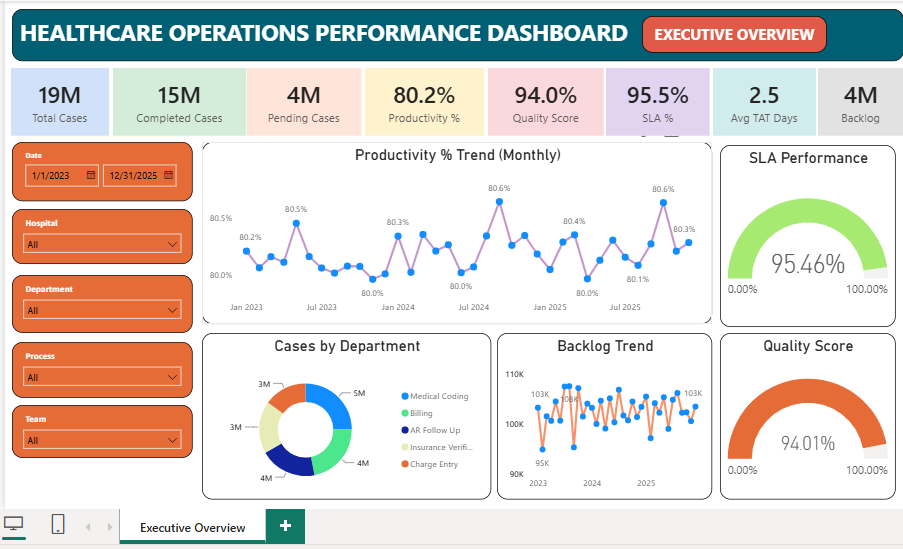

The page's visual inventory and layout, read from the dashboard file:
{"tool":"powerbi","page":{"name":"Executive Overview","canvas":[1280,720],"ordinal":0},"visuals":[{"type":"textbox","box":[9.9,11.3,1264.3,73.7],"z":0},{"type":"textbox","box":[902.8,21.3,262.1,51.8],"z":1000},{"type":"slicer","fields":{"Values":["Dim_Date.Date"]},"box":[10.1,200.2,256.3,83.5],"z":2000},{"type":"slicer","fields":{"Values":["Dim_Hospital.Hospital_Name"]},"box":[10.1,295.2,256.3,77.8],"z":3000},{"type":"slicer","fields":{"Values":["Dim_Department.Department"]},"box":[10.1,388.8,256.3,82.1],"z":4000},{"type":"slicer","fields":{"Values":["Dim_Process.Process"]},"box":[10.1,483.8,256.3,79.2],"z":5000},{"type":"slicer","fields":{"Values":["Dim_Team.Team"]},"box":[10.1,573.1,256.3,74.9],"z":6000},{"type":"lineChart","title":"Productivity % Trend (Monthly)","fields":{"Category":["Dim_Date.Month_Year"],"Y":["Fact_Healthcare_Operations.Productivity %"]},"box":[279.4,200.2,722.9,257.8],"z":7000},{"type":"donutChart","title":"Cases by Department","fields":{"Category":["Dim_Department.Department"],"Y":["Fact_Healthcare_Operations.Total Cases"]},"box":[279.4,470.9,410.4,236.2],"z":8000},{"type":"lineChart","title":"Backlog Trend","fields":{"Category":["Dim_Date.Month_Year"],"Y":["Fact_Healthcare_Operations.Backlog"]},"box":[697,470.9,305.3,236.2],"z":9000},{"type":"gauge","title":"SLA Performance","fields":{"Y":["Fact_Healthcare_Operations.SLA %"]},"box":[1013.8,204.5,249.1,257.8],"z":10000},{"type":"gauge","title":"Quality Score","fields":{"Y":["Fact_Healthcare_Operations.Quality Score"]},"box":[1013.8,470.9,249.1,236.2],"z":11000},{"type":"cardVisual","fields":{"Data":["Fact_Healthcare_Operations.Total Cases"]},"box":[8.5,95,138.9,96.4],"z":12000},{"type":"cardVisual","fields":{"Data":["Fact_Healthcare_Operations.Completed Cases"]},"box":[153.1,95,188.5,96.4],"z":13000},{"type":"cardVisual","fields":{"Data":["Fact_Healthcare_Operations.Pending Cases"]},"box":[343,95,161.6,96.4],"z":14000},{"type":"cardVisual","fields":{"Data":["Fact_Healthcare_Operations.Productivity %"]},"box":[510.2,95,168.7,96.4],"z":15000},{"type":"cardVisual","fields":{"Data":["Fact_Healthcare_Operations.Quality Score"]},"box":[684.6,95,164.4,96.4],"z":16000},{"type":"cardVisual","fields":{"Data":["Fact_Healthcare_Operations.SLA %"]},"box":[851.8,95,147.4,96.4],"z":17000},{"type":"cardVisual","fields":{"Data":["Fact_Healthcare_Operations.Avg TAT Days"]},"box":[1003.5,95,146,96.4],"z":18000},{"type":"cardVisual","fields":{"Data":["Fact_Healthcare_Operations.Backlog"]},"box":[1152.3,95,121.9,96.4],"z":19000}]}

Visuals, with their boxes in screenshot pixels (x1, y1, x2, y2):
textbox: 19 8 898 59
textbox: 640 15 822 51
slicer - Dim_Date.Date: 19 139 197 197
slicer - Dim_Hospital.Hospital_Name: 19 205 197 260
slicer - Dim_Department.Department: 19 270 197 328
slicer - Dim_Process.Process: 19 337 197 392
slicer - Dim_Team.Team: 19 399 197 451
"Productivity % Trend (Monthly)" lineChart: 206 139 709 319
"Cases by Department" donutChart: 206 328 492 492
"Backlog Trend" lineChart: 497 328 709 492
"SLA Performance" gauge: 717 142 890 322
"Quality Score" gauge: 717 328 890 492
cardVisual - Fact_Healthcare_Operations.Total Cases: 18 66 114 133
cardVisual - Fact_Healthcare_Operations.Completed Cases: 118 66 249 133
cardVisual - Fact_Healthcare_Operations.Pending Cases: 250 66 363 133
cardVisual - Fact_Healthcare_Operations.Productivity %: 367 66 484 133
cardVisual - Fact_Healthcare_Operations.Quality Score: 488 66 602 133
cardVisual - Fact_Healthcare_Operations.SLA %: 604 66 707 133
cardVisual - Fact_Healthcare_Operations.Avg TAT Days: 710 66 811 133
cardVisual - Fact_Healthcare_Operations.Backlog: 813 66 898 133
